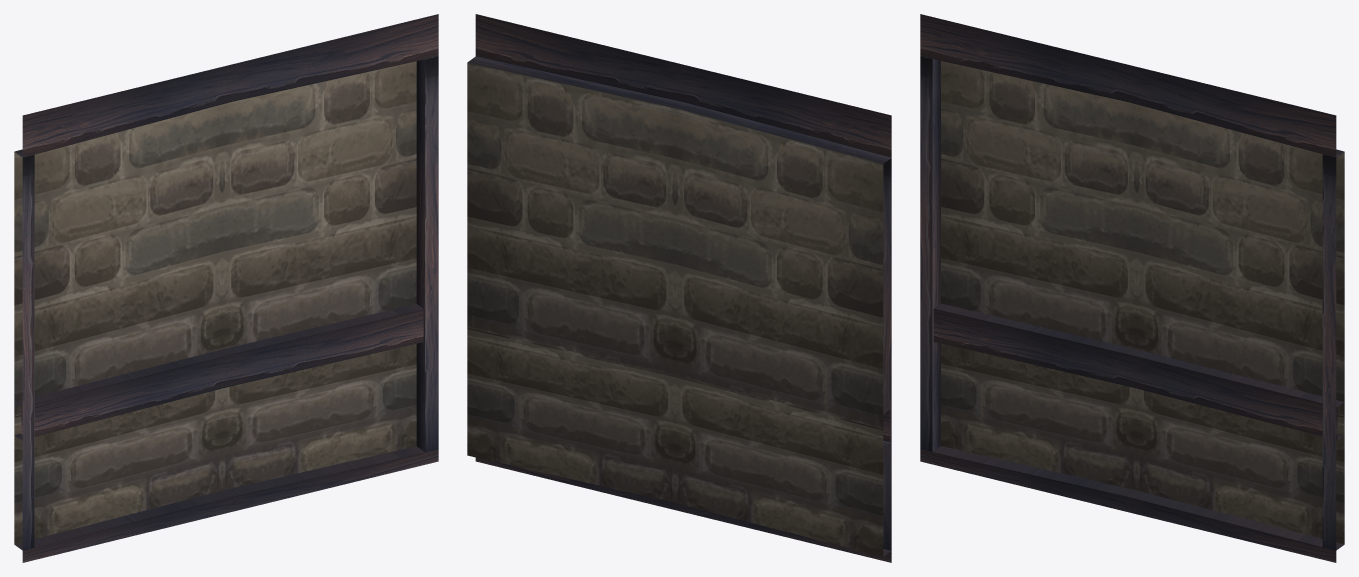
Rendered from Wall_1sided_detailed_2ndFloor_Bricks.fbx.
3 renders of one model, left to right at view 1: azimuth 30°, elevation 25°; view 2: azimuth 150°, elevation 25°; view 3: azimuth 330°, elevation 25°, orthographic.
Parts seen in each view (by area): view 1: Wall_1sided_detailed_2ndFloor_Bricks; view 2: Wall_1sided_detailed_2ndFloor_Bricks; view 3: Wall_1sided_detailed_2ndFloor_Bricks.
Part boxes in pixels (bbox=[...]): Wall_1sided_detailed_2ndFloor_Bricks: bbox=[14, 14, 438, 562]; Wall_1sided_detailed_2ndFloor_Bricks: bbox=[467, 14, 891, 562]; Wall_1sided_detailed_2ndFloor_Bricks: bbox=[920, 14, 1344, 562].
Bounding box in the file's own units: 0.6266 × 0.6442 × 0.0222.
